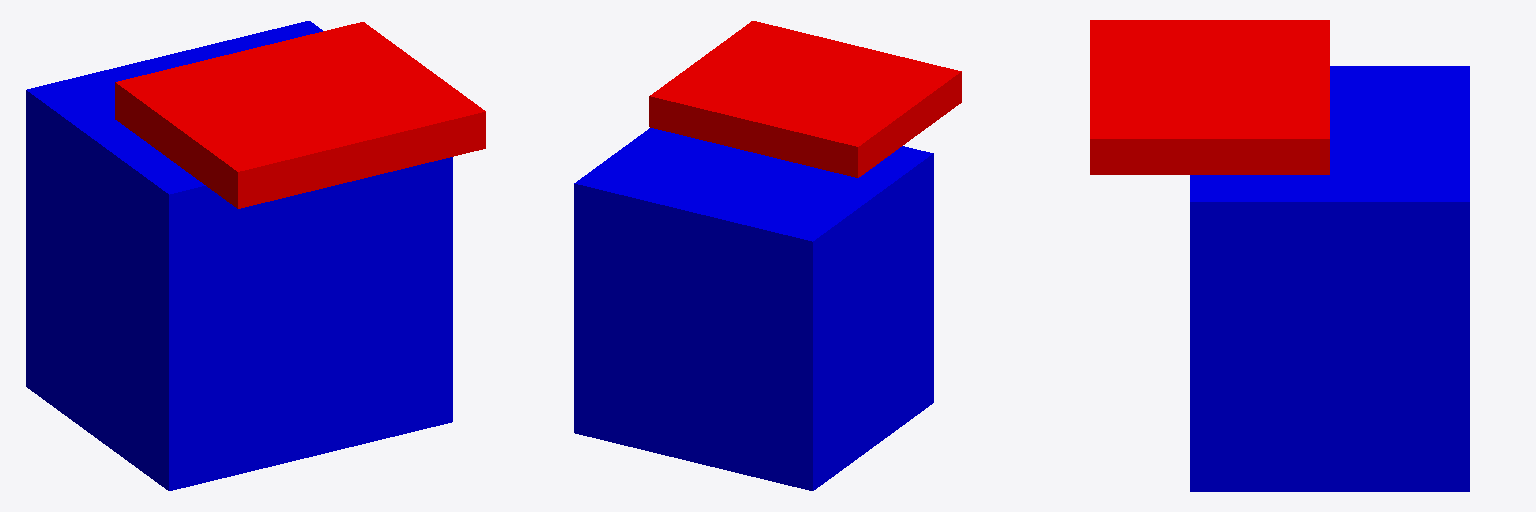
The robot description file, URDF, robot "simple_test":
<?xml version="1.0"?>
<robot name="simple_test">

  <!-- Base Link -->
  <link name="base_link">
    <visual>
      <geometry>
        <box size="0.4 0.35 0.4"/>
      </geometry>
      <material name="blue">
        <color rgba="0.0 0.0 1.0 0.8"/>
      </material>
    </visual>
  </link>

  <!-- Lid Link -->
  <link name="lid_link">
    <visual>
      <geometry>
        <box size="0.35 0.3 0.05"/>
      </geometry>
      <material name="red">
        <color rgba="1.0 0.0 0.0 0.8"/>
      </material>
    </visual>
  </link>

  <!-- Hinge Joint -->
  <joint name="lid_hinge" type="revolute">
    <parent link="base_link"/>
    <child link="lid_link"/>
    <origin xyz="0.0 -0.15 0.25" rpy="0 0 0"/>
    <axis xyz="1 0 0"/>
    <limit lower="-1.57" upper="0.1" effort="10.0" velocity="1.0"/>
  </joint>

</robot>

--- Render facts (derived) ---
Views: 3 orthographic renders of the robot side by side, from view 1: azimuth 30°, elevation 25°; view 2: azimuth 150°, elevation 25°; view 3: azimuth 270°, elevation 25°.
Robot: simple_test — 2 links, 1 joints (1 revolute); root link base_link; default pose: all joints at 0.
Links seen in each view (by area): view 1: base_link, lid_link; view 2: base_link, lid_link; view 3: base_link, lid_link.
Boxes of the visible links, x1,y1,x2,y2 form: base_link: (26,21,452,490); lid_link: (115,22,485,208); base_link: (574,128,933,490); lid_link: (649,21,961,177); base_link: (1190,66,1469,491); lid_link: (1090,20,1329,174).
Size in the robot's own frame: 0.4 by 0.475 by 0.475 metres.
Geometry: primitives only (box / cylinder / sphere), no mesh files.
